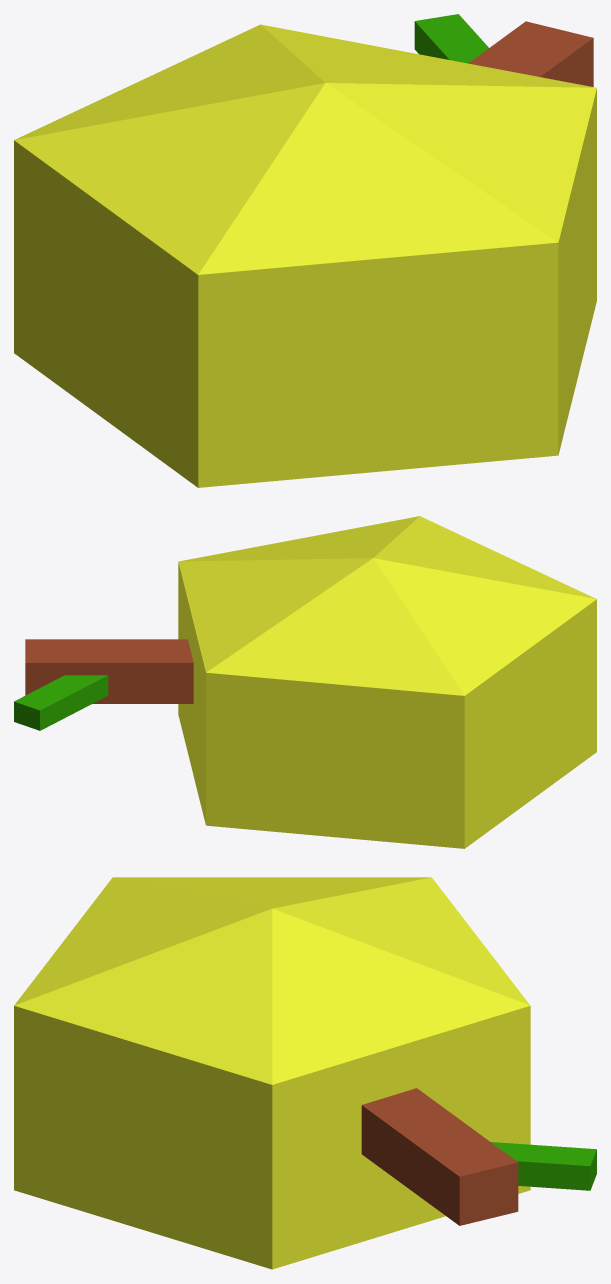
The model's file is fruit_1.FBX.
The picture shows the model from 3 angles, top to bottom: view 1: azimuth 30°, elevation 25°; view 2: azimuth 150°, elevation 25°; view 3: azimuth 270°, elevation 25°; orthographic projection. The views are drawn at different scales.
Parts seen in each view (by area): view 1: Cylinder010, Box062, Box063; view 2: Cylinder010, Box062, Box063; view 3: Cylinder010, Box062, Box063.
Boxes of the visible parts, x1=… form: Cylinder010: x1=14, y1=24, x2=596, y2=487; Box062: x1=468, y1=21, x2=593, y2=86; Box063: x1=414, y1=14, x2=488, y2=63; Cylinder010: x1=178, y1=516, x2=596, y2=848; Box062: x1=25, y1=639, x2=193, y2=703; Box063: x1=14, y1=675, x2=108, y2=730; Cylinder010: x1=14, y1=877, x2=530, y2=1269; Box062: x1=361, y1=1088, x2=518, y2=1225; Box063: x1=491, y1=1142, x2=596, y2=1190.
Bounding box in the file's own units: 43.9 × 20.01 × 42.94.
